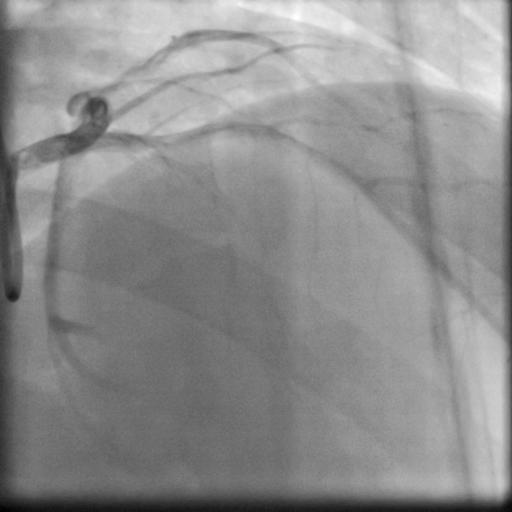Stenosis: (96, 68, 141, 92)
